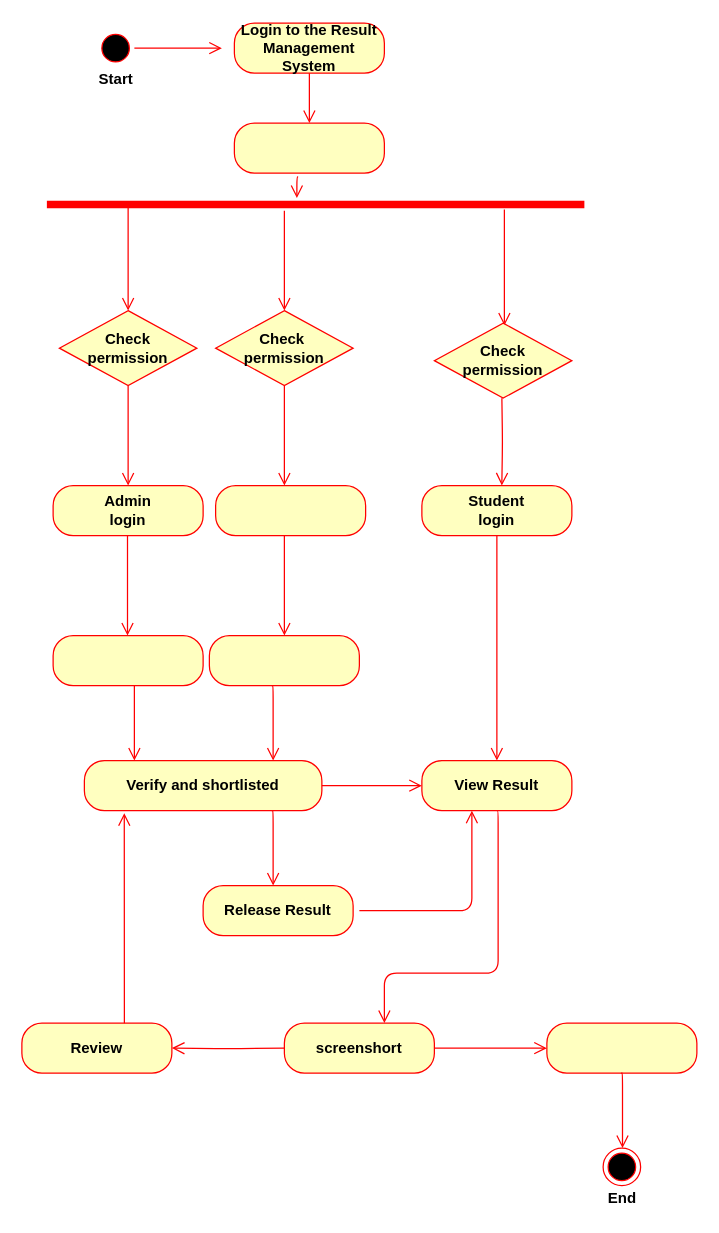
Some shapes in this 719 by 1233 pixel diagram are drawn without their labels. The centre of each missing label's shape, as x and y in pixels:
"Check the user level and permission" goes at point (308, 147).
"Exit" goes at point (621, 1047).
"Facilitator login" goes at point (290, 510).
"Scan the paper and upload" goes at point (127, 660).
"View paper and put marks" goes at point (283, 660).
